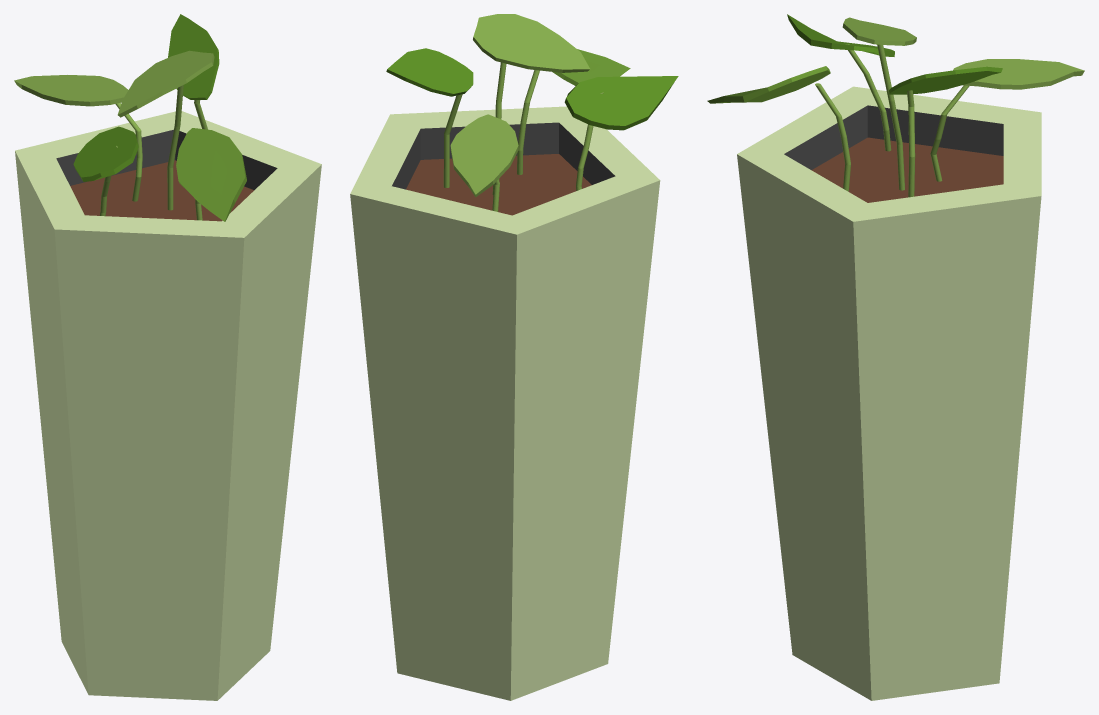
Rendered from MiniPlanta.fbx.
3 renders of one model, left to right at view 1: azimuth 30°, elevation 25°; view 2: azimuth 150°, elevation 25°; view 3: azimuth 270°, elevation 25°, orthographic. The views are drawn at different scales.
Visible parts, largest first — view 1: Cube.008; view 2: Cube.008; view 3: Cube.008.
Boxes of the visible parts, <box> form: Cube.008: <box>14,14,321,700</box>; Cube.008: <box>350,14,678,700</box>; Cube.008: <box>707,14,1084,700</box>.
Size of the model in its own units: 30.48 by 66.48 by 35.96.
Materials: 1 (1 with a texture image).
